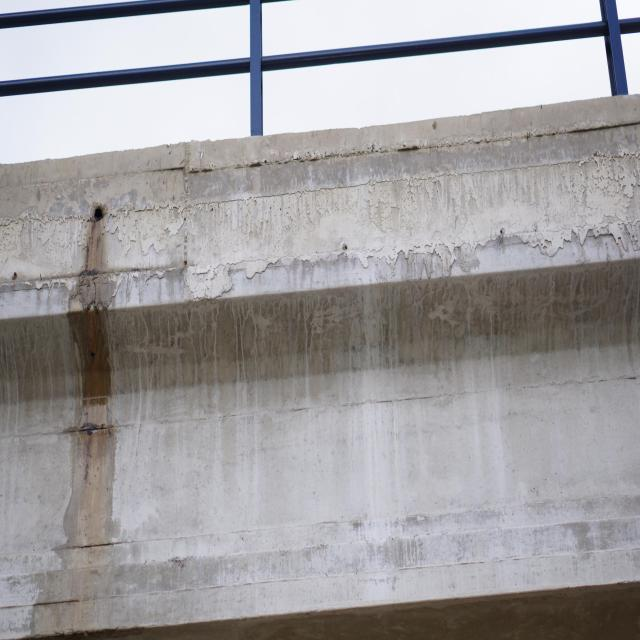vertical crack: (346, 401, 364, 524)
